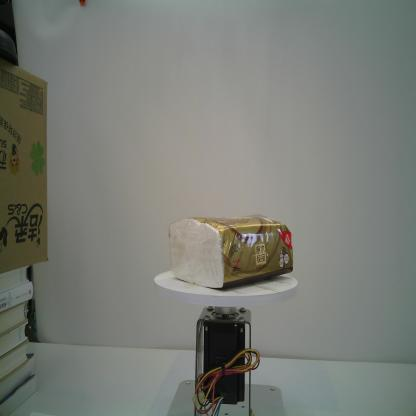Tissue: (167, 214, 294, 290)
